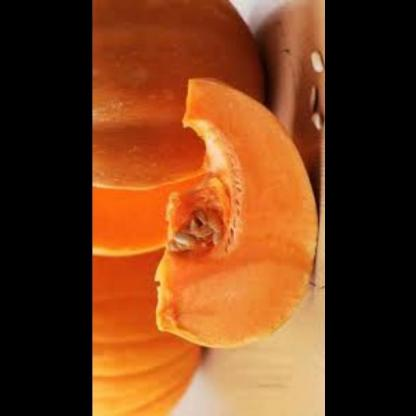pumpkin: (148, 73, 319, 351), (90, 0, 270, 255), (91, 242, 209, 416)
